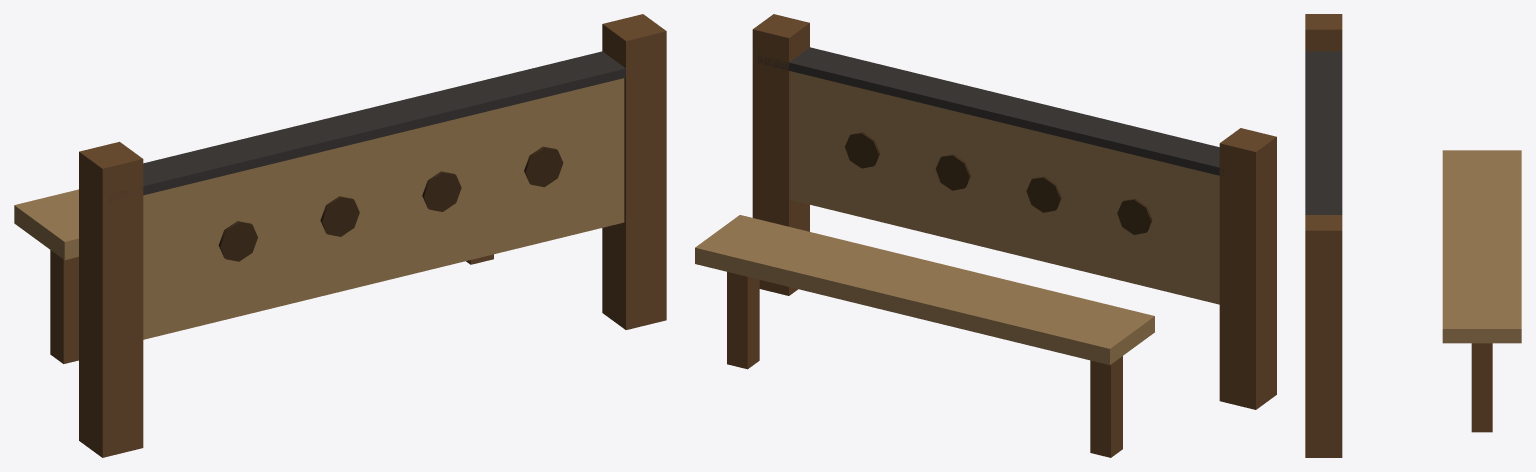
The model's file is mv_stocks.glb.
3 views of the same model, side by side, from view 1: azimuth 30°, elevation 25°; view 2: azimuth 150°, elevation 25°; view 3: azimuth 270°, elevation 25° (orthographic). The views are drawn at different scales.
Visible parts, largest first — view 1: mv_stocks; view 2: mv_stocks; view 3: mv_stocks.
Part boxes in pixels (<box>): mv_stocks: <box>14,14,666,457</box>; mv_stocks: <box>695,14,1276,457</box>; mv_stocks: <box>1305,14,1521,457</box>.
Size of the model in its own units: 1.94 by 0.95 by 0.82.
